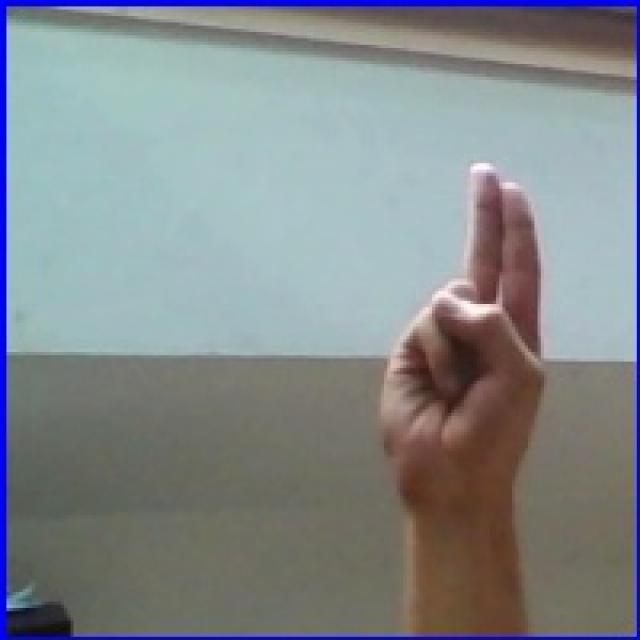Letra-U: (344, 142, 576, 584)
